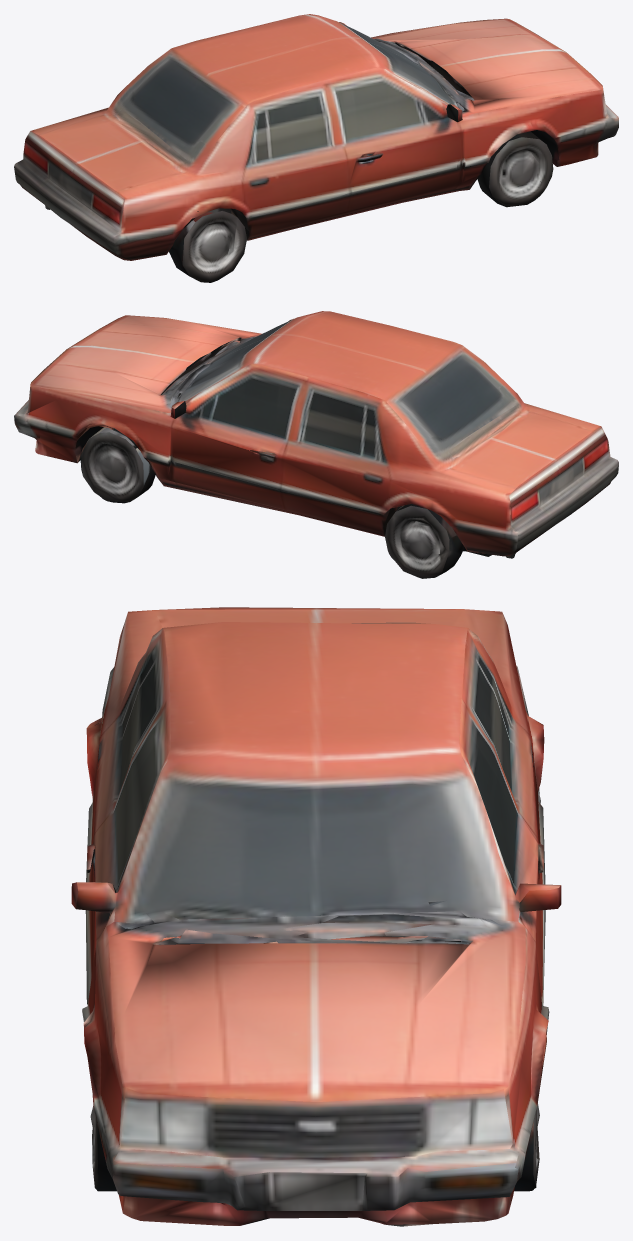
Rendered from sloyd-sedan-lite.glb.
3 renders of one model, top to bottom at view 1: azimuth 30°, elevation 25°; view 2: azimuth 150°, elevation 25°; view 3: azimuth 270°, elevation 25°, orthographic. The views are drawn at different scales.
Visible parts, largest first — view 1: body-tex; view 2: body-tex; view 3: body-tex.
Part boxes in pixels (x1=…): body-tex: x1=14, y1=14, x2=618, y2=282; body-tex: x1=14, y1=311, x2=618, y2=578; body-tex: x1=71, y1=607, x2=561, y2=1226.
Size of the model in its own units: 15.84 by 4.67 by 6.46.
1 material, 1 textured.
